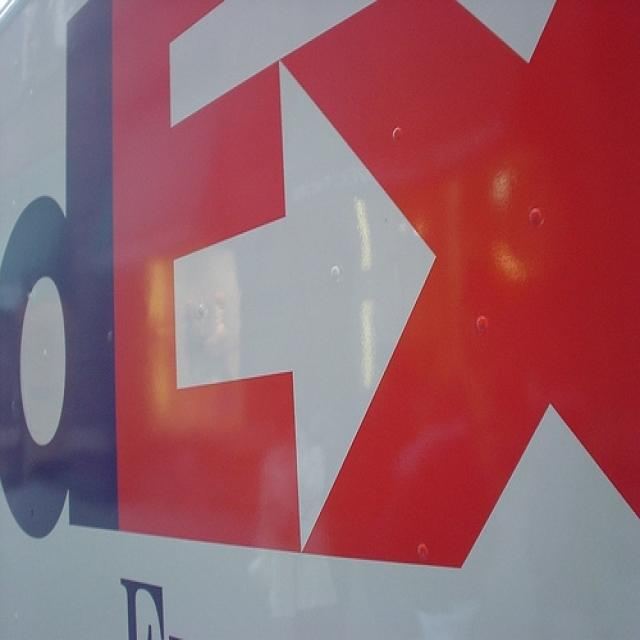fedex: (2, 3, 640, 580)
